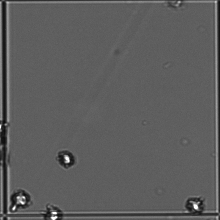Living Cell: (184, 195, 206, 214), (10, 190, 31, 209), (56, 149, 76, 168)
